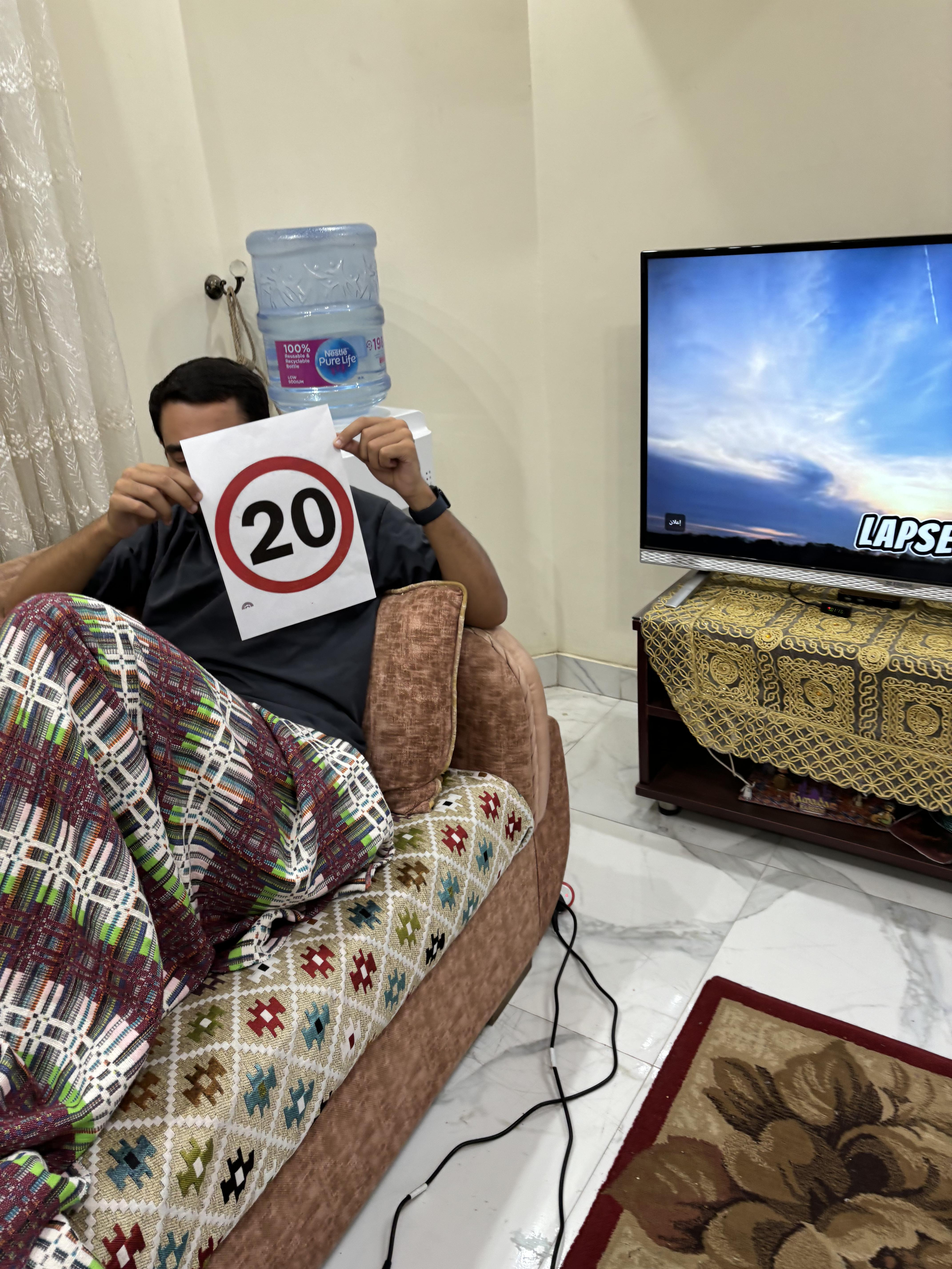20-Speed: (207, 454, 362, 586)
